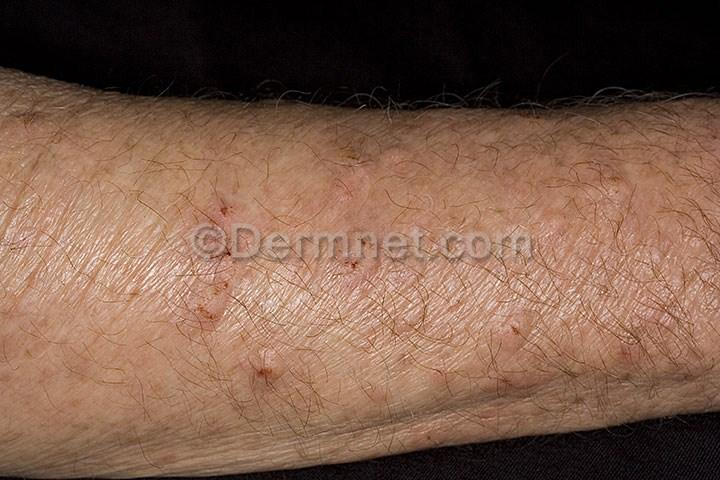Eczema: (12, 306, 119, 392), (462, 272, 564, 357), (510, 182, 582, 270), (422, 347, 529, 405), (584, 148, 648, 236), (330, 223, 397, 306), (159, 258, 242, 324), (215, 323, 286, 395), (195, 229, 260, 300), (376, 122, 444, 185), (332, 356, 409, 410), (594, 316, 649, 381), (327, 183, 392, 238), (111, 324, 162, 390), (331, 138, 387, 189), (194, 186, 244, 234), (399, 402, 447, 445)
